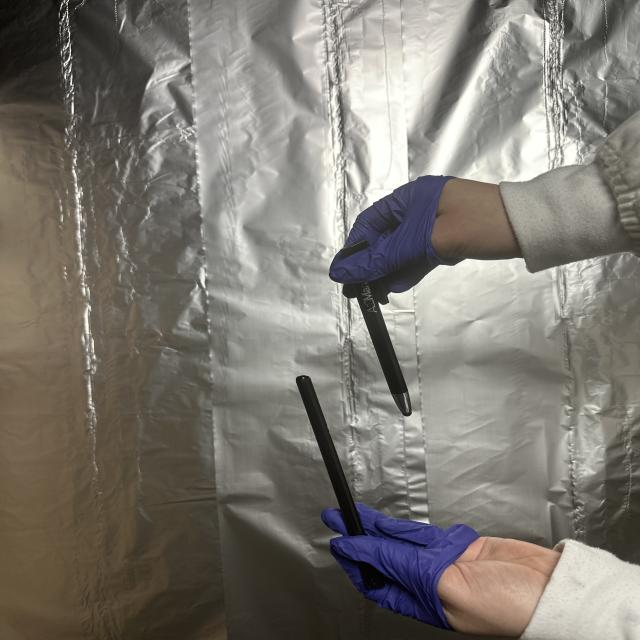glove_partial: (320, 498, 569, 636), (326, 171, 532, 300)
